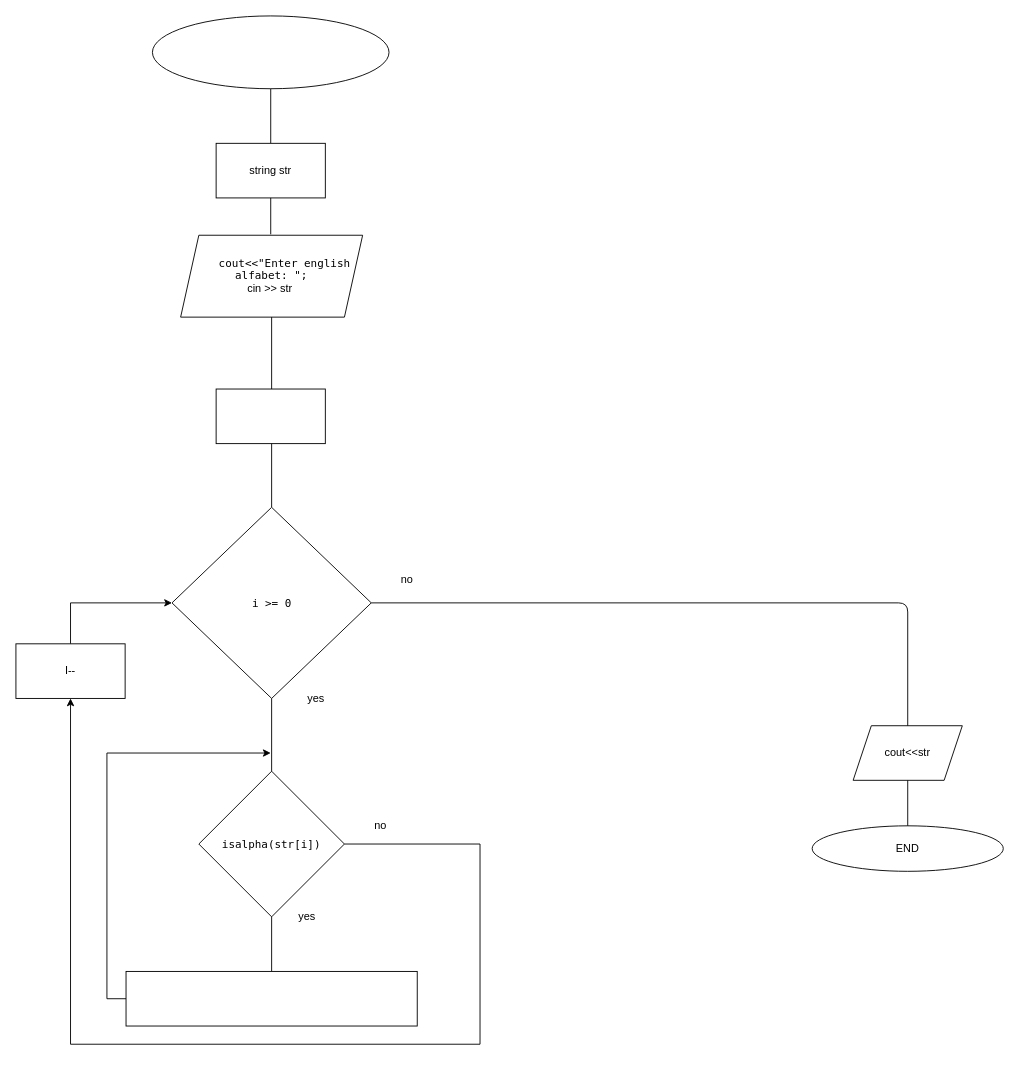
Image size: 1019x1067. Some labels were removed from this diagram. Each missing label, with the centre of its shape:
i = str. size () - 1: pixel 270 416
START: pixel 270 52
str. replace (i, 1 , to_string ( tolower (str[i]) - 'a' + 1 ) + " " );: pixel 271 998
